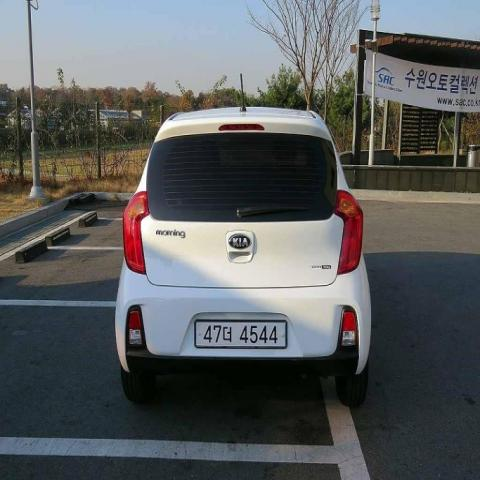LP: (191, 312, 292, 354)
